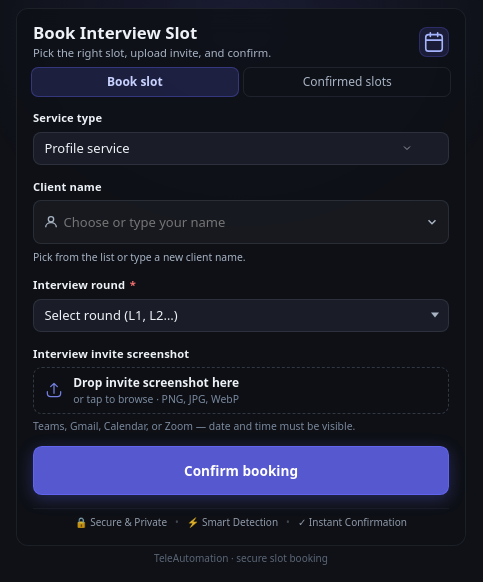
Scenario: an empty form reports the first field, not the browser's choice › asks for the client name, not the interview round
The width and height of the screenshot is (483, 582).
Click the button "Confirm booking" at (241, 471), box [33,446,449,495]
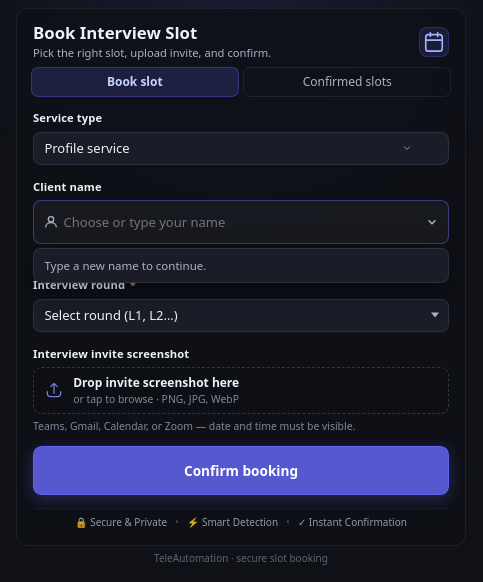
Now the text "Enter the client name for this round." is shown, box [33,250,210,264]
